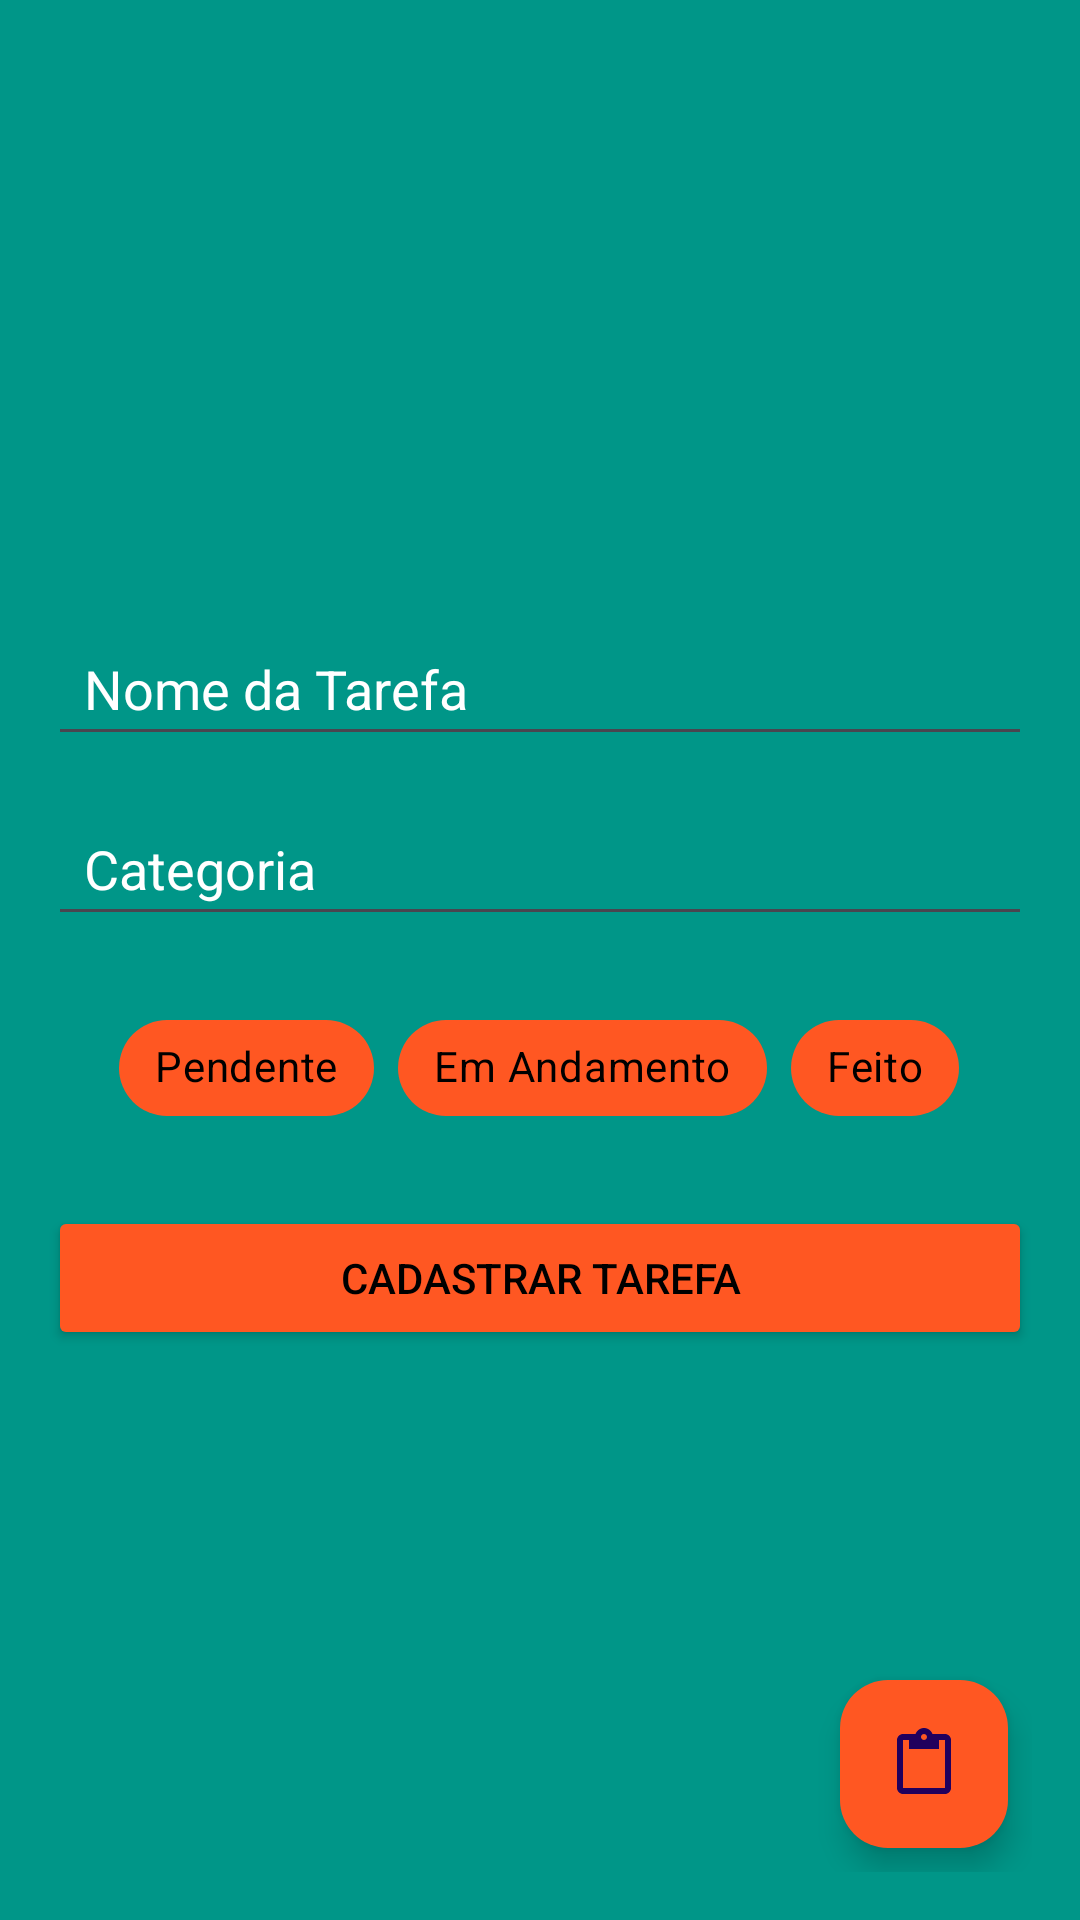

Screen size 1080px x 1920px. Icon name, then its box in pixels as {"x1": x1, "y1": y1, "x2": x2, "y2": y2}:
Ver lista de tarefas: {"x1": 840, "y1": 1680, "x2": 1008, "y2": 1848}
